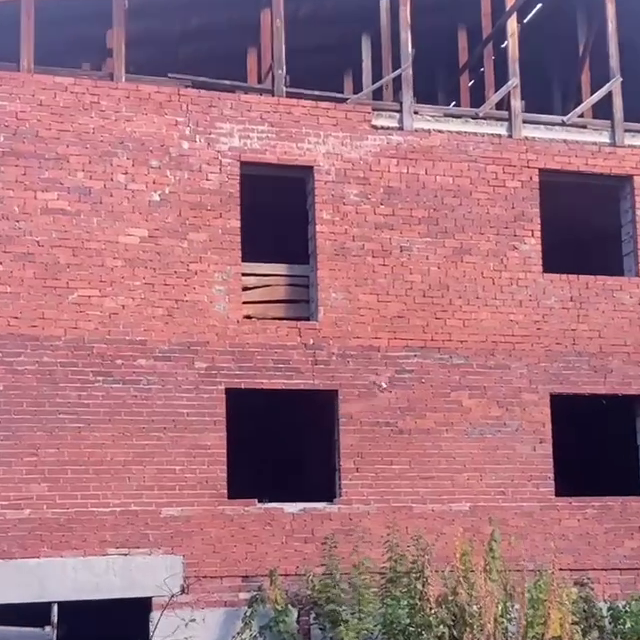drone: (369, 374, 395, 401)
